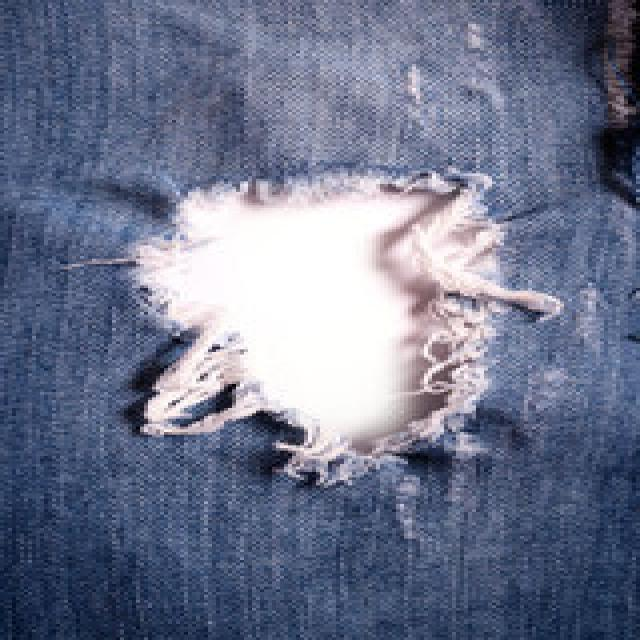Hole: (126, 173, 564, 488)
